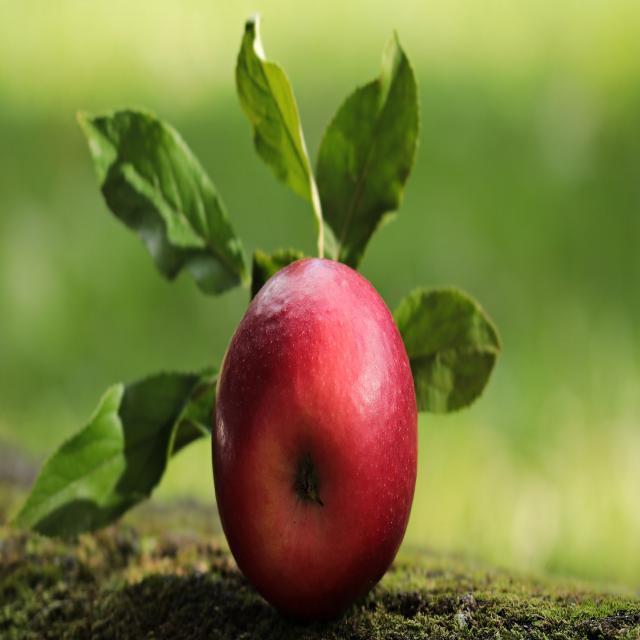Apple: (212, 260, 422, 612)
